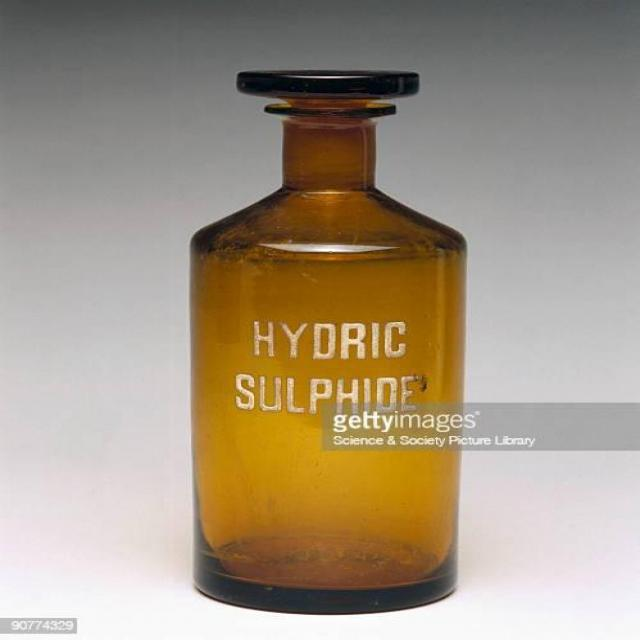non-organic waste: (190, 63, 460, 608)
